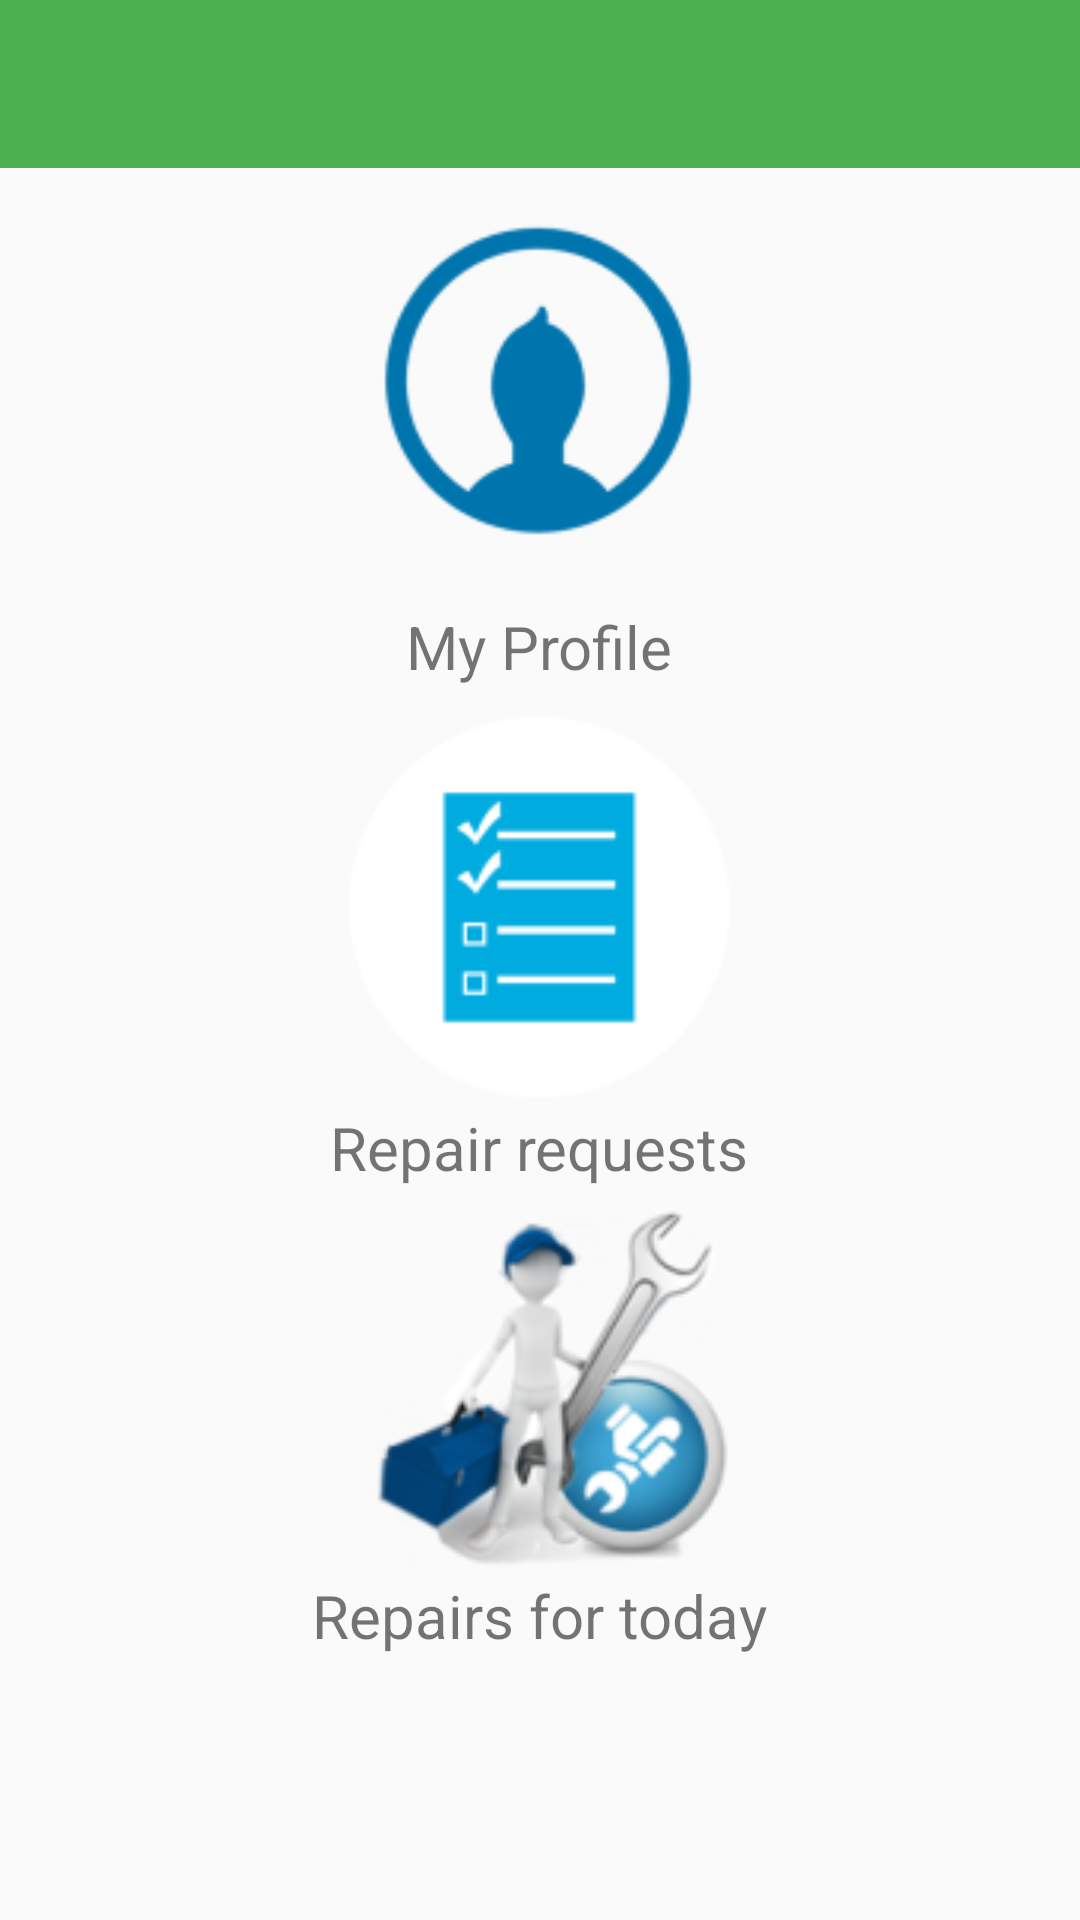

Named icons in this screenshot (1080px×1920px) and their bounding boxes, (x1, y1, x2, y2):
job request list: (442, 792, 637, 1023)
